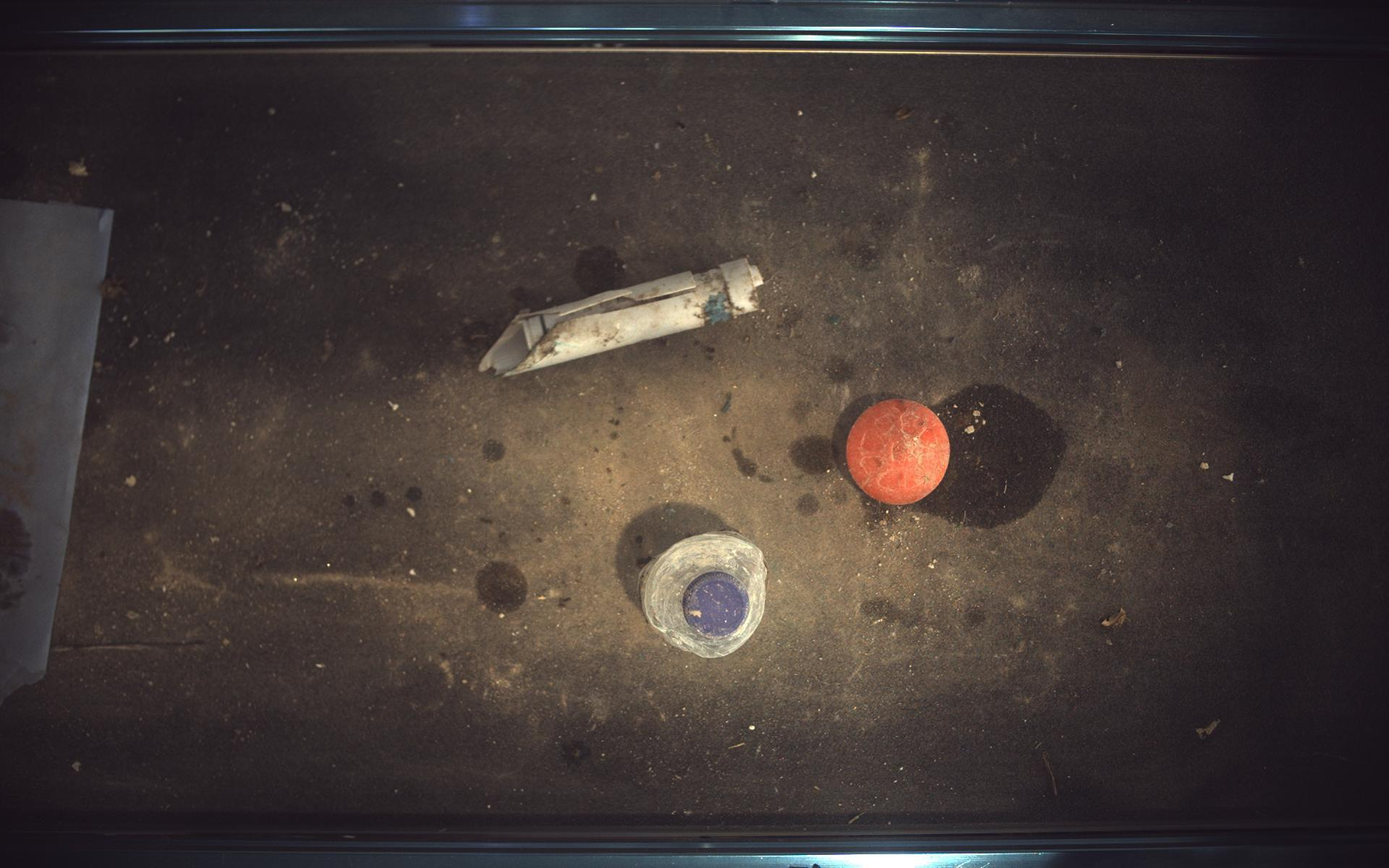general_w: (641, 532, 768, 659)
plastic: (479, 257, 764, 375), (848, 399, 951, 505)
